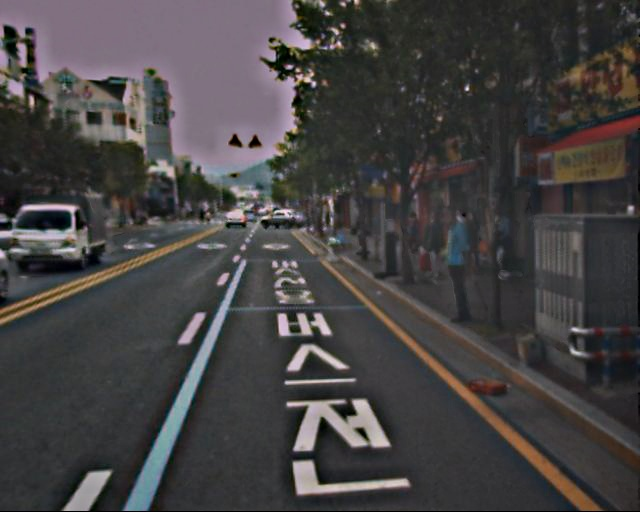person: (430, 205, 480, 326), (420, 211, 451, 286), (488, 209, 517, 279), (404, 210, 424, 259)
